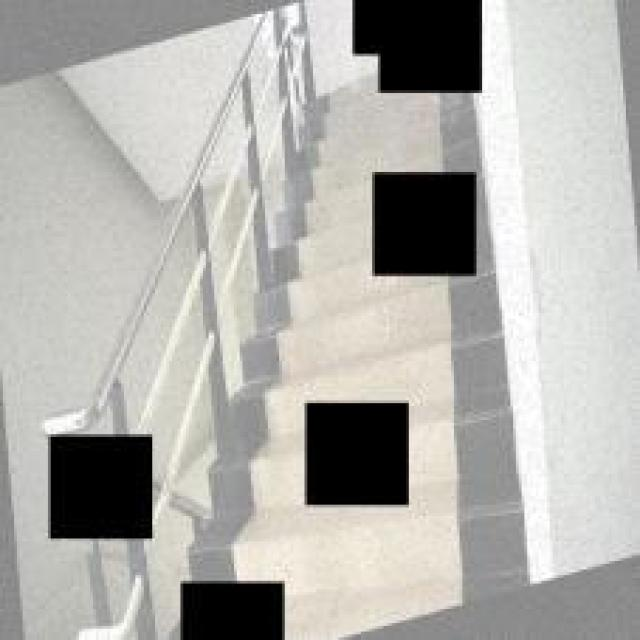upstair: (294, 517, 551, 627), (249, 283, 506, 390)
